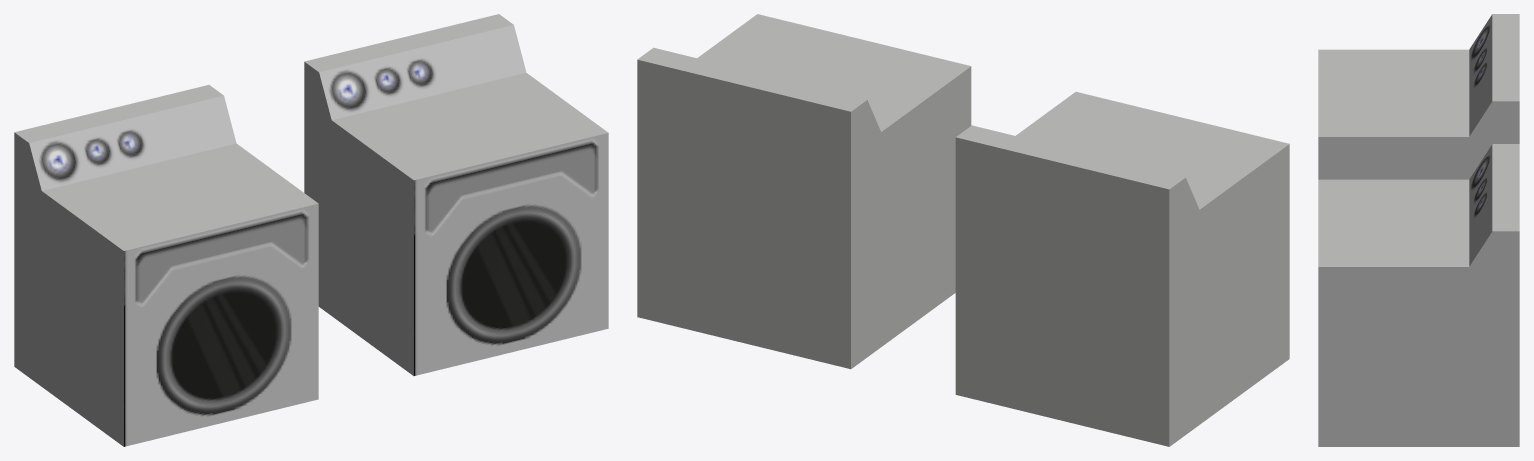
File: Bundle_Washers.fbx
3 views of the same model, side by side, from view 1: azimuth 30°, elevation 25°; view 2: azimuth 150°, elevation 25°; view 3: azimuth 270°, elevation 25° (orthographic). The views are drawn at different scales.
Visible parts, largest first — view 1: Bundle_Washer_1; view 2: Bundle_Washer_1; view 3: Bundle_Washer_1.
Part boxes in pixels (x1,y1,x2,y2): Bundle_Washer_1: (14, 14, 608, 446); Bundle_Washer_1: (637, 14, 1289, 446); Bundle_Washer_1: (1318, 14, 1519, 446).
Size of the model in its own units: 264 by 122 by 103.
